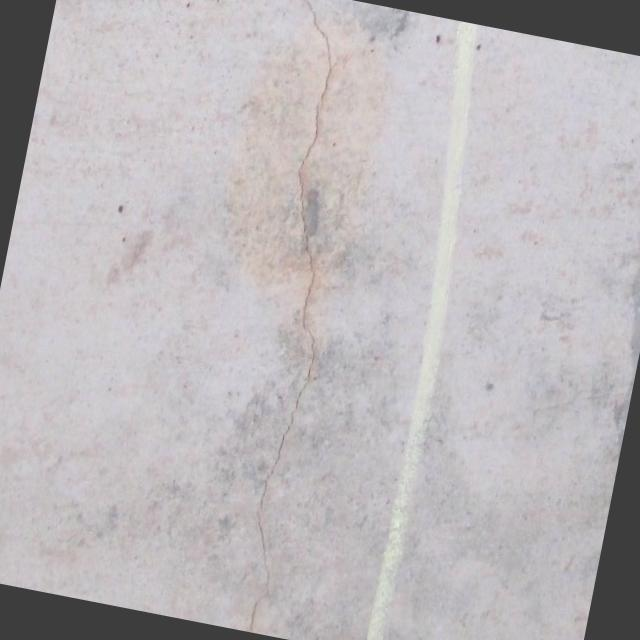crack: (170, 0, 421, 640)
